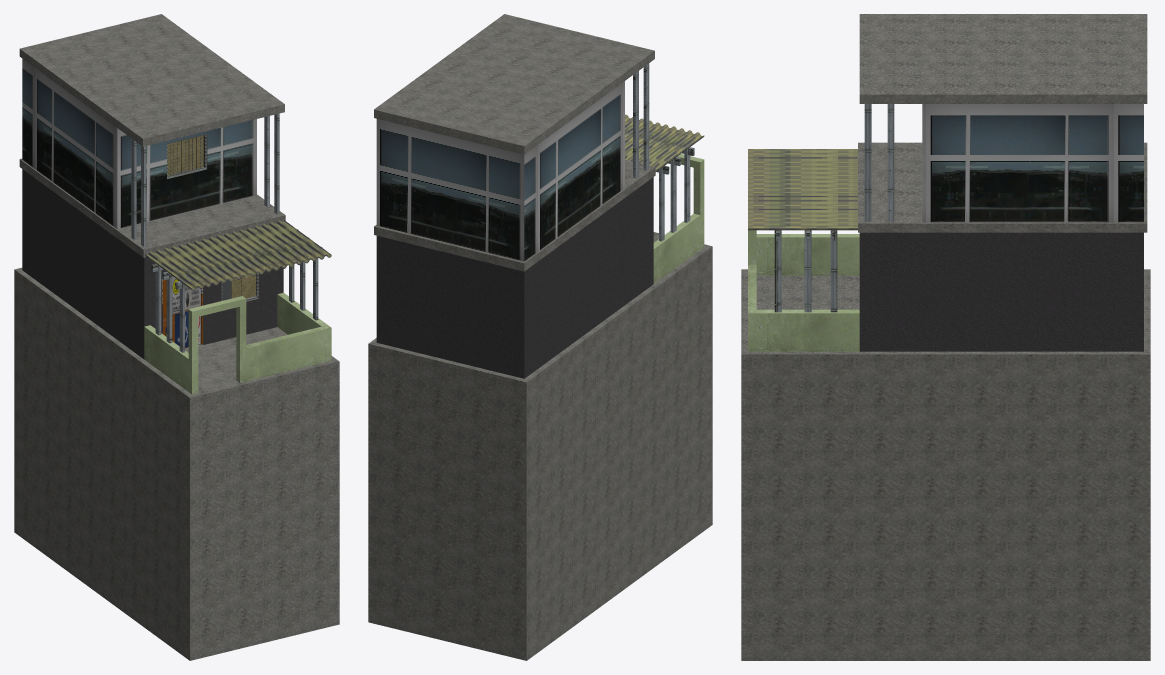
The model's file is barraco_rds_21.obj.
3 renders of one model, left to right at view 1: azimuth 30°, elevation 25°; view 2: azimuth 150°, elevation 25°; view 3: azimuth 270°, elevation 25°, orthographic. The views are drawn at different scales.
Parts seen in each view (by area): view 1: barraco_rds_06; view 2: barraco_rds_06; view 3: barraco_rds_06.
Boxes of the visible parts, left/top/right/bottom form: barraco_rds_06: left=14, top=14, right=339, bottom=660; barraco_rds_06: left=368, top=14, right=712, bottom=660; barraco_rds_06: left=741, top=14, right=1150, bottom=660.
Bounding box in the file's own units: 4.69 × 14.49 × 9.53.
